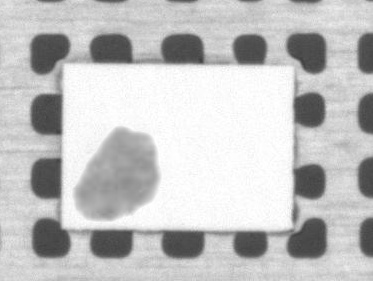DIE_INK: (72, 128, 158, 220)
